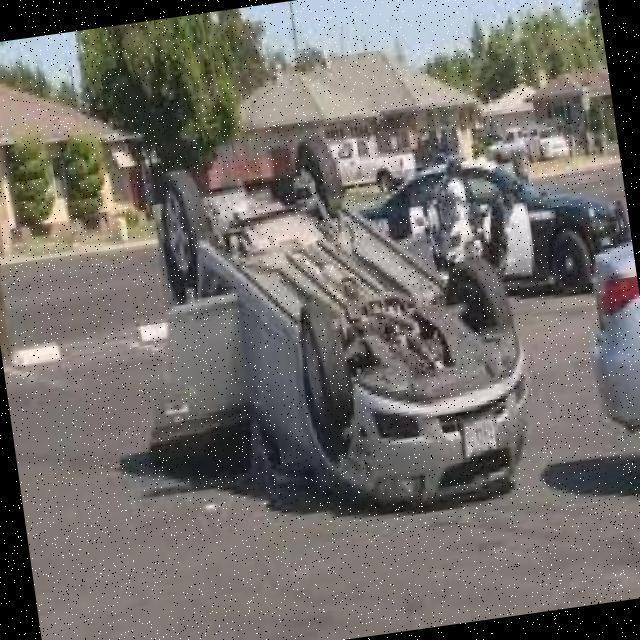accident: (140, 110, 545, 539)
